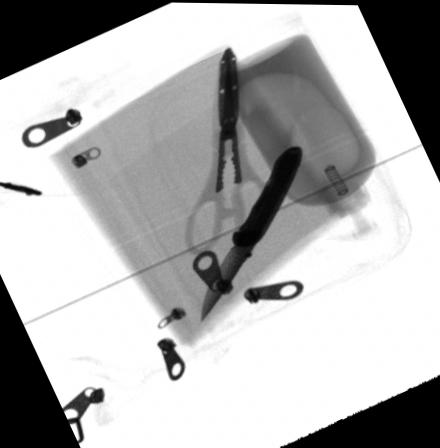Knife: (200, 143, 302, 323)
Scissors: (184, 46, 280, 256)
